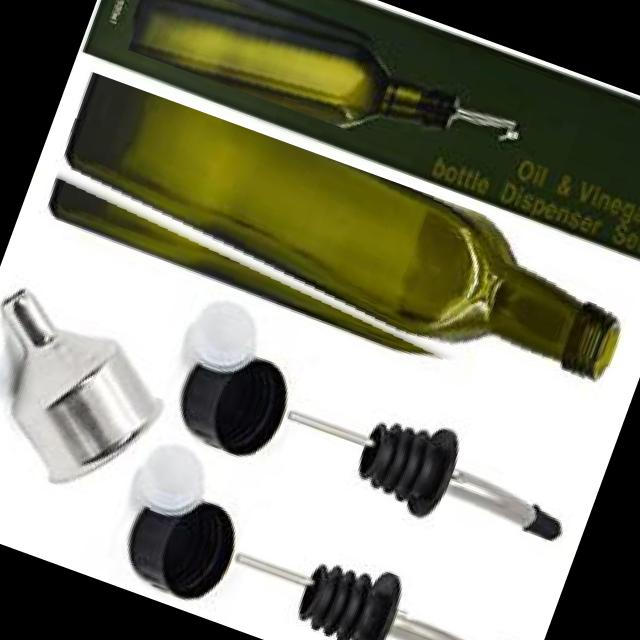Glass: (30, 70, 640, 429), (125, 0, 475, 163)
